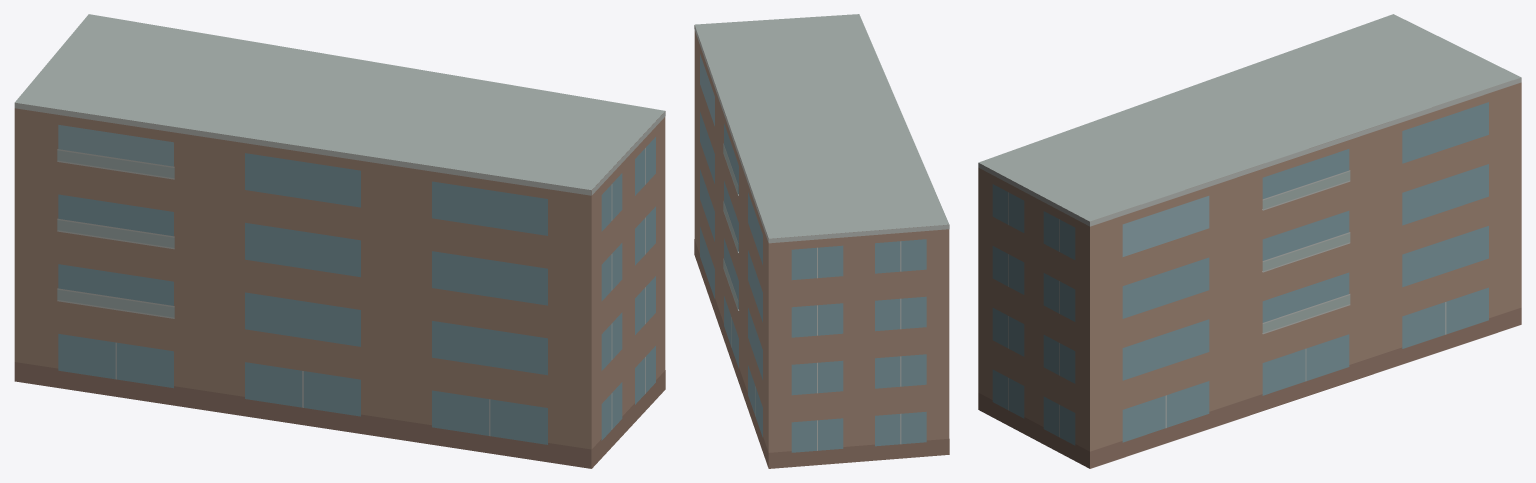
The model's file is survey-upis-32844009.glb.
The picture shows the model from 3 angles, left to right: view 1: azimuth 30°, elevation 25°; view 2: azimuth 150°, elevation 25°; view 3: azimuth 270°, elevation 25°; orthographic projection. The views are drawn at different scales.
Visible parts, largest first — view 1: survey-upis-32844009.tmp; view 2: survey-upis-32844009.tmp; view 3: survey-upis-32844009.tmp.
Part boxes in pixels (x1,y1,x2,y2): survey-upis-32844009.tmp: (14, 14, 665, 468); survey-upis-32844009.tmp: (694, 14, 949, 468); survey-upis-32844009.tmp: (978, 14, 1521, 468).
Size of the model in its own units: 21.99 by 12.2 by 24.31.
